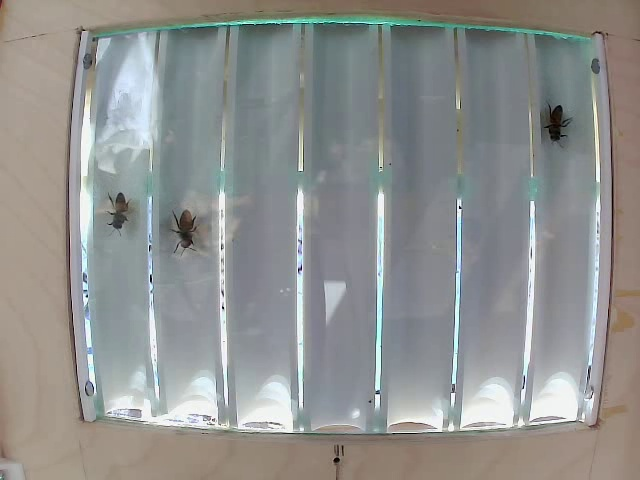bee: (167, 199, 203, 267), (543, 101, 574, 148), (102, 191, 133, 236)
